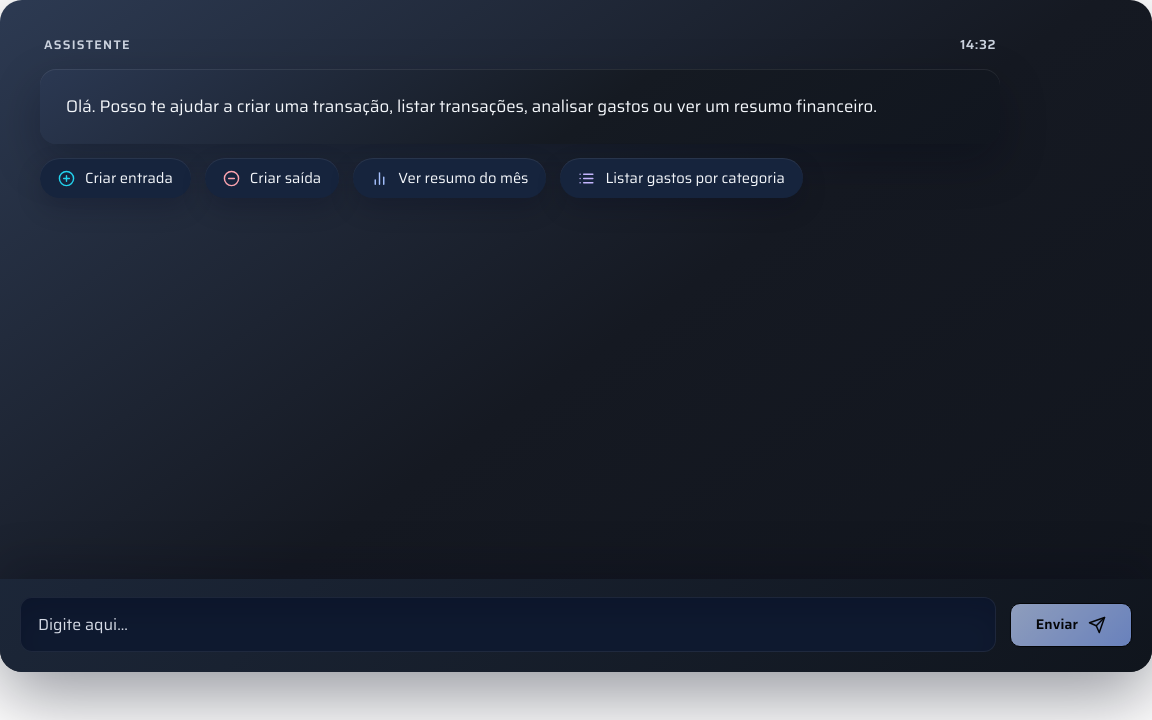
Test: Chat integration › renderiza resposta inicial e envia mensagem ao assistente
The width and height of the screenshot is (1152, 720).
Expected: the text "Posso te ajudar a criar uma transação" is shown, [66,93,877,119]
Type "quero listar transacoes" into the text box with placeholder "Digite aqui..." at x=508, y=624, box [20,597,996,652]
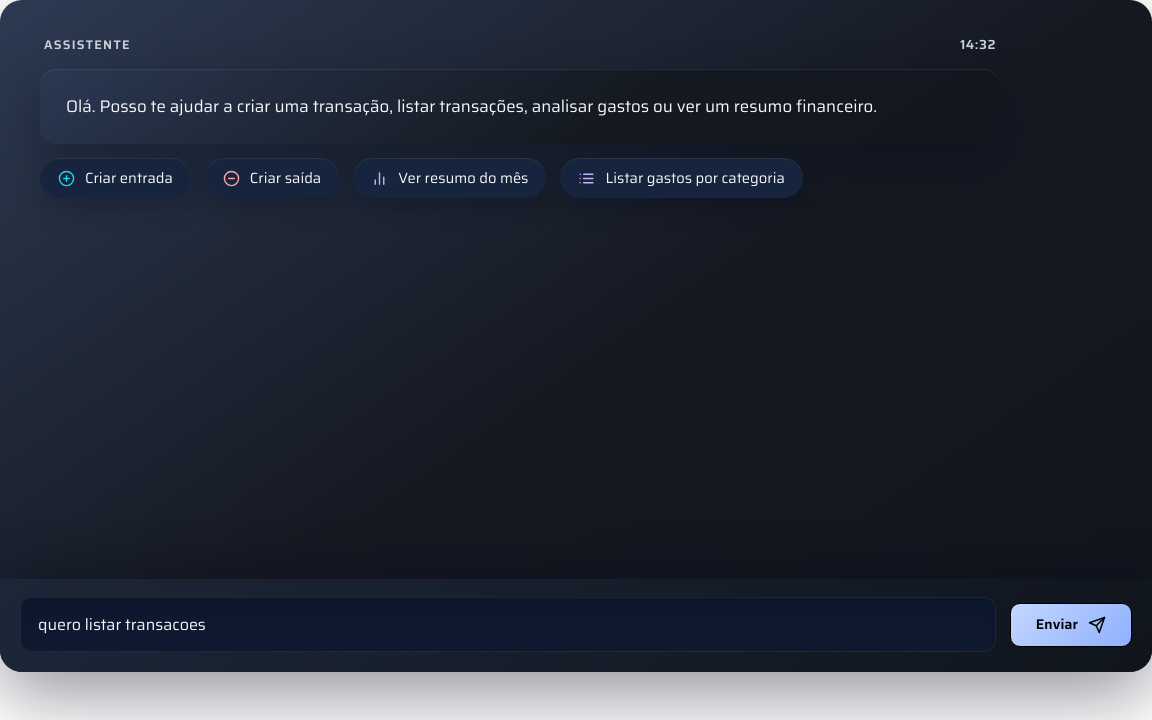
Click the button "Enviar" at x=1071, y=624, box [1010,602,1132,646]
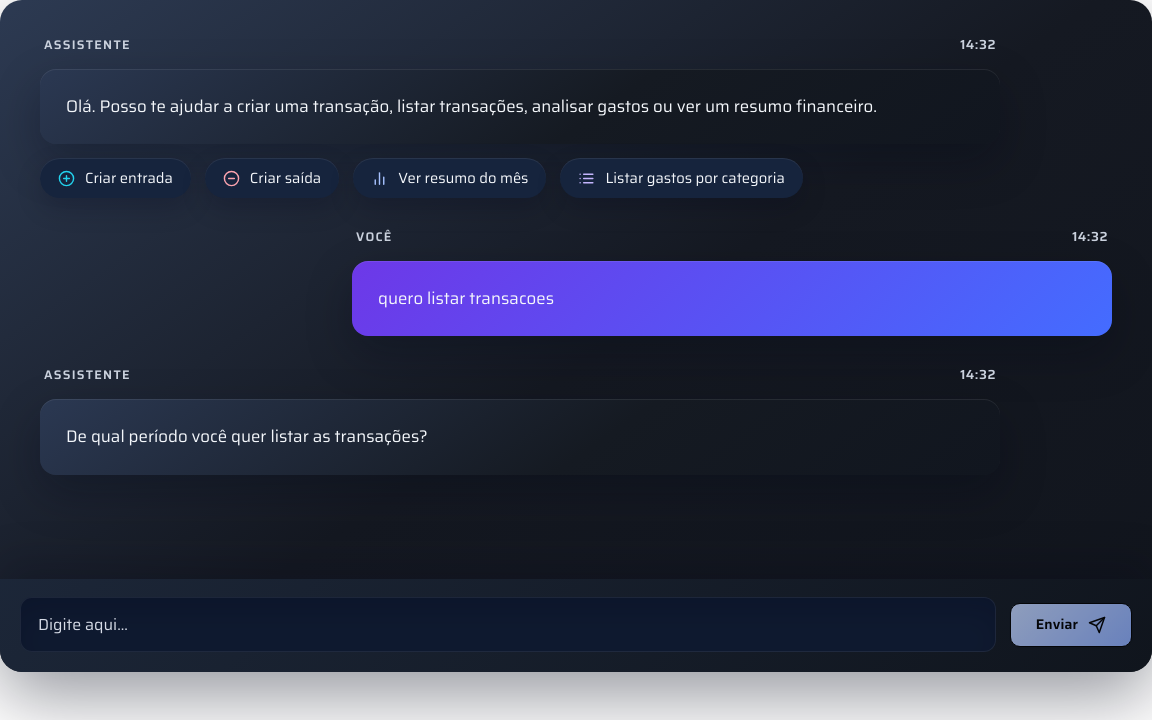
Result: the text "De qual período você quer listar as transações?" is shown at [66,423,428,449]
